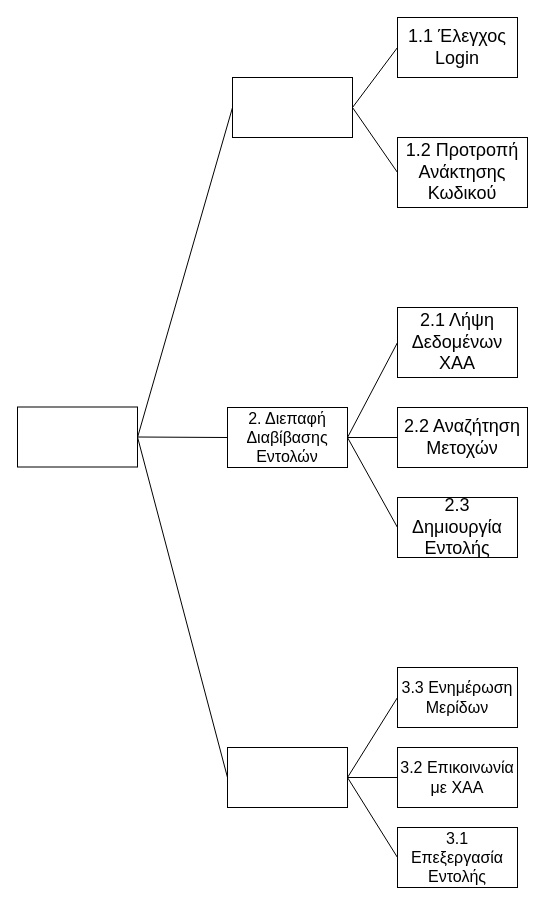
Image size: 545x905. Some labels were removed from this diagram. Here are the shapes that lost their labels. From the top down, the box of each, then its label:
(232, 76, 352, 138): 1. Είσοδος
(16, 406, 138, 467): 0. E-Broker
(226, 746, 348, 808): 3. Διαχείριση Εντολών
